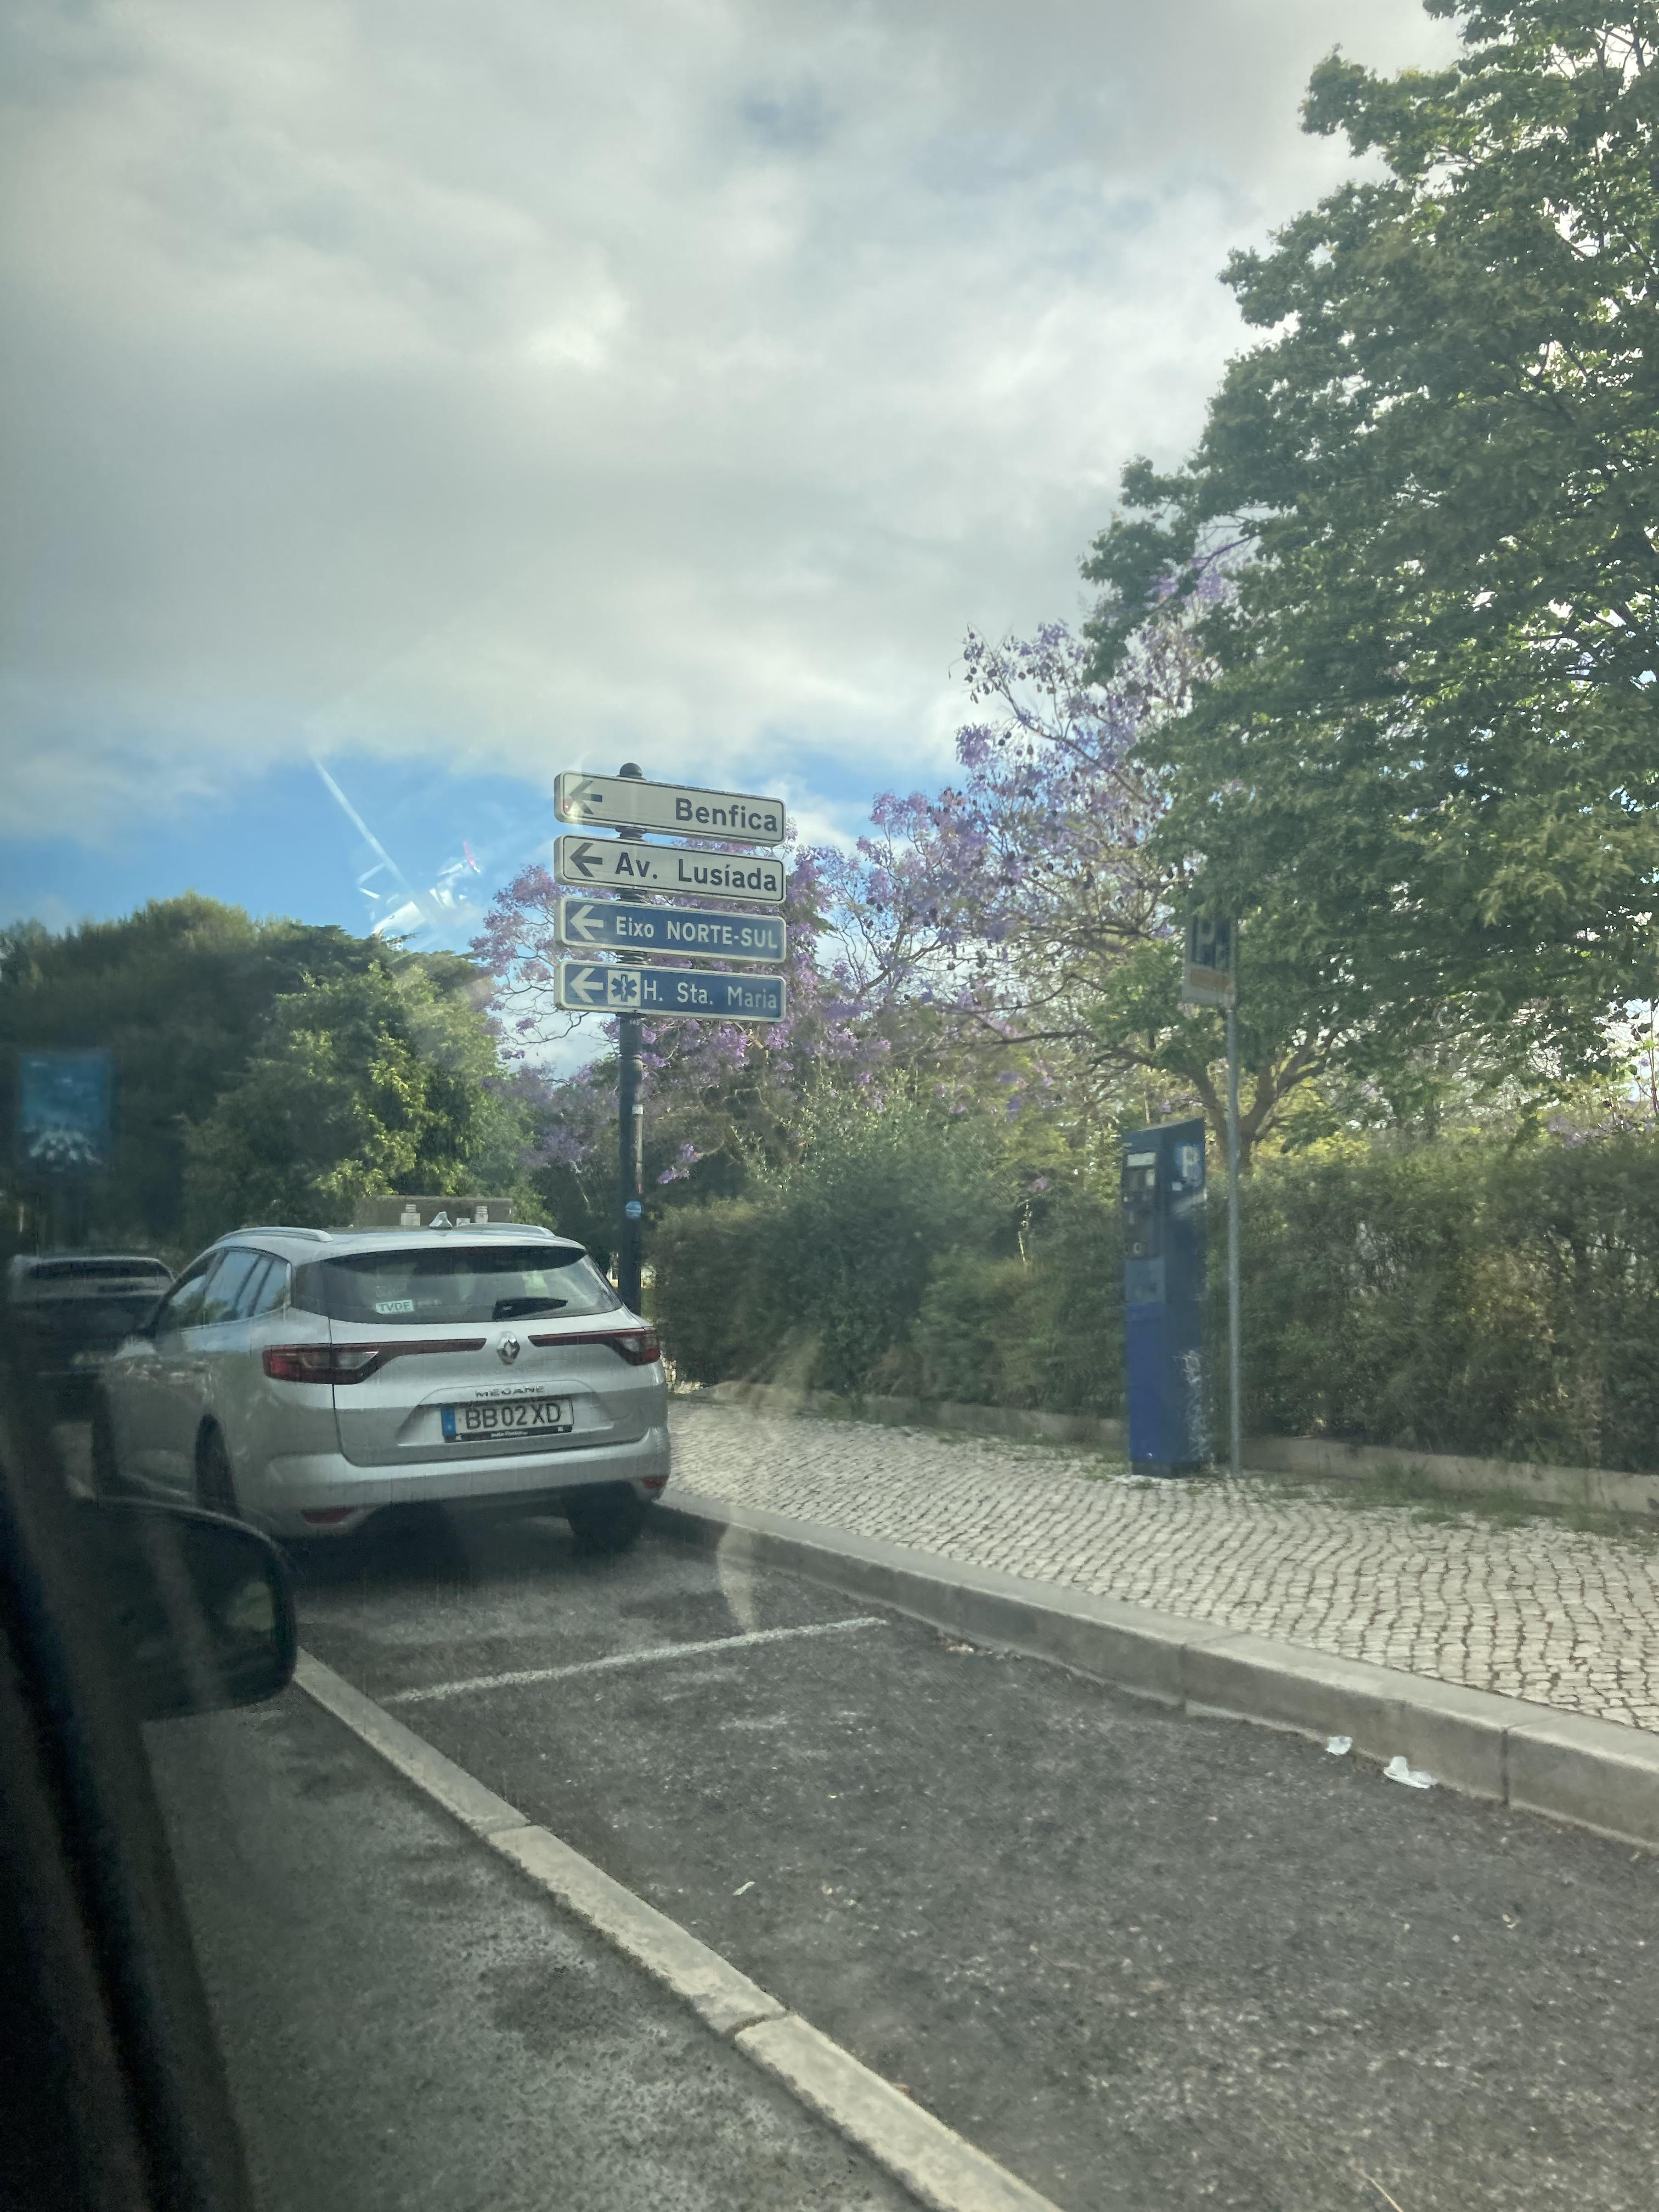Indicacao de ambito urbano: (559, 895, 786, 965), (561, 775, 786, 843), (559, 838, 788, 904), (558, 963, 788, 1021)
sinais: (558, 775, 561, 775)
